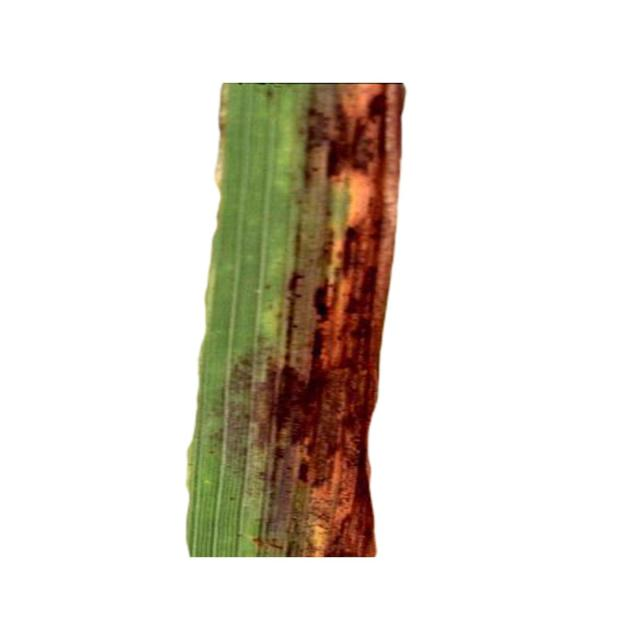Leaf scald: (112, 43, 456, 573)
